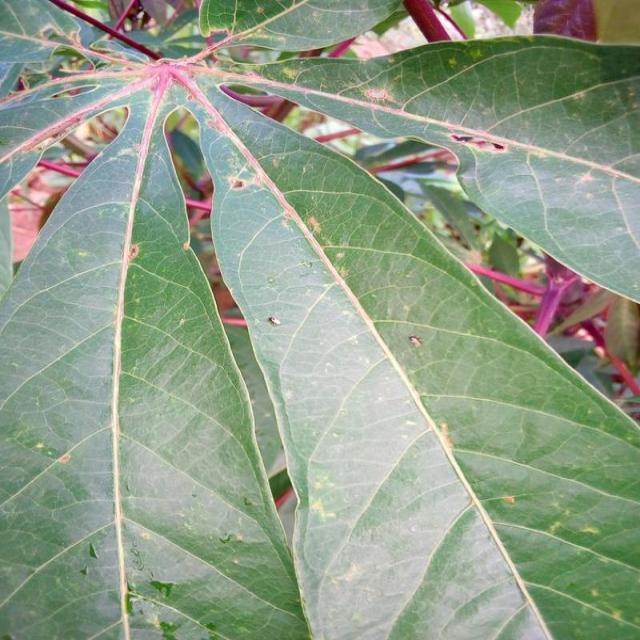cassava leaf: (1, 2, 638, 638), (0, 77, 310, 638), (228, 31, 639, 305)
